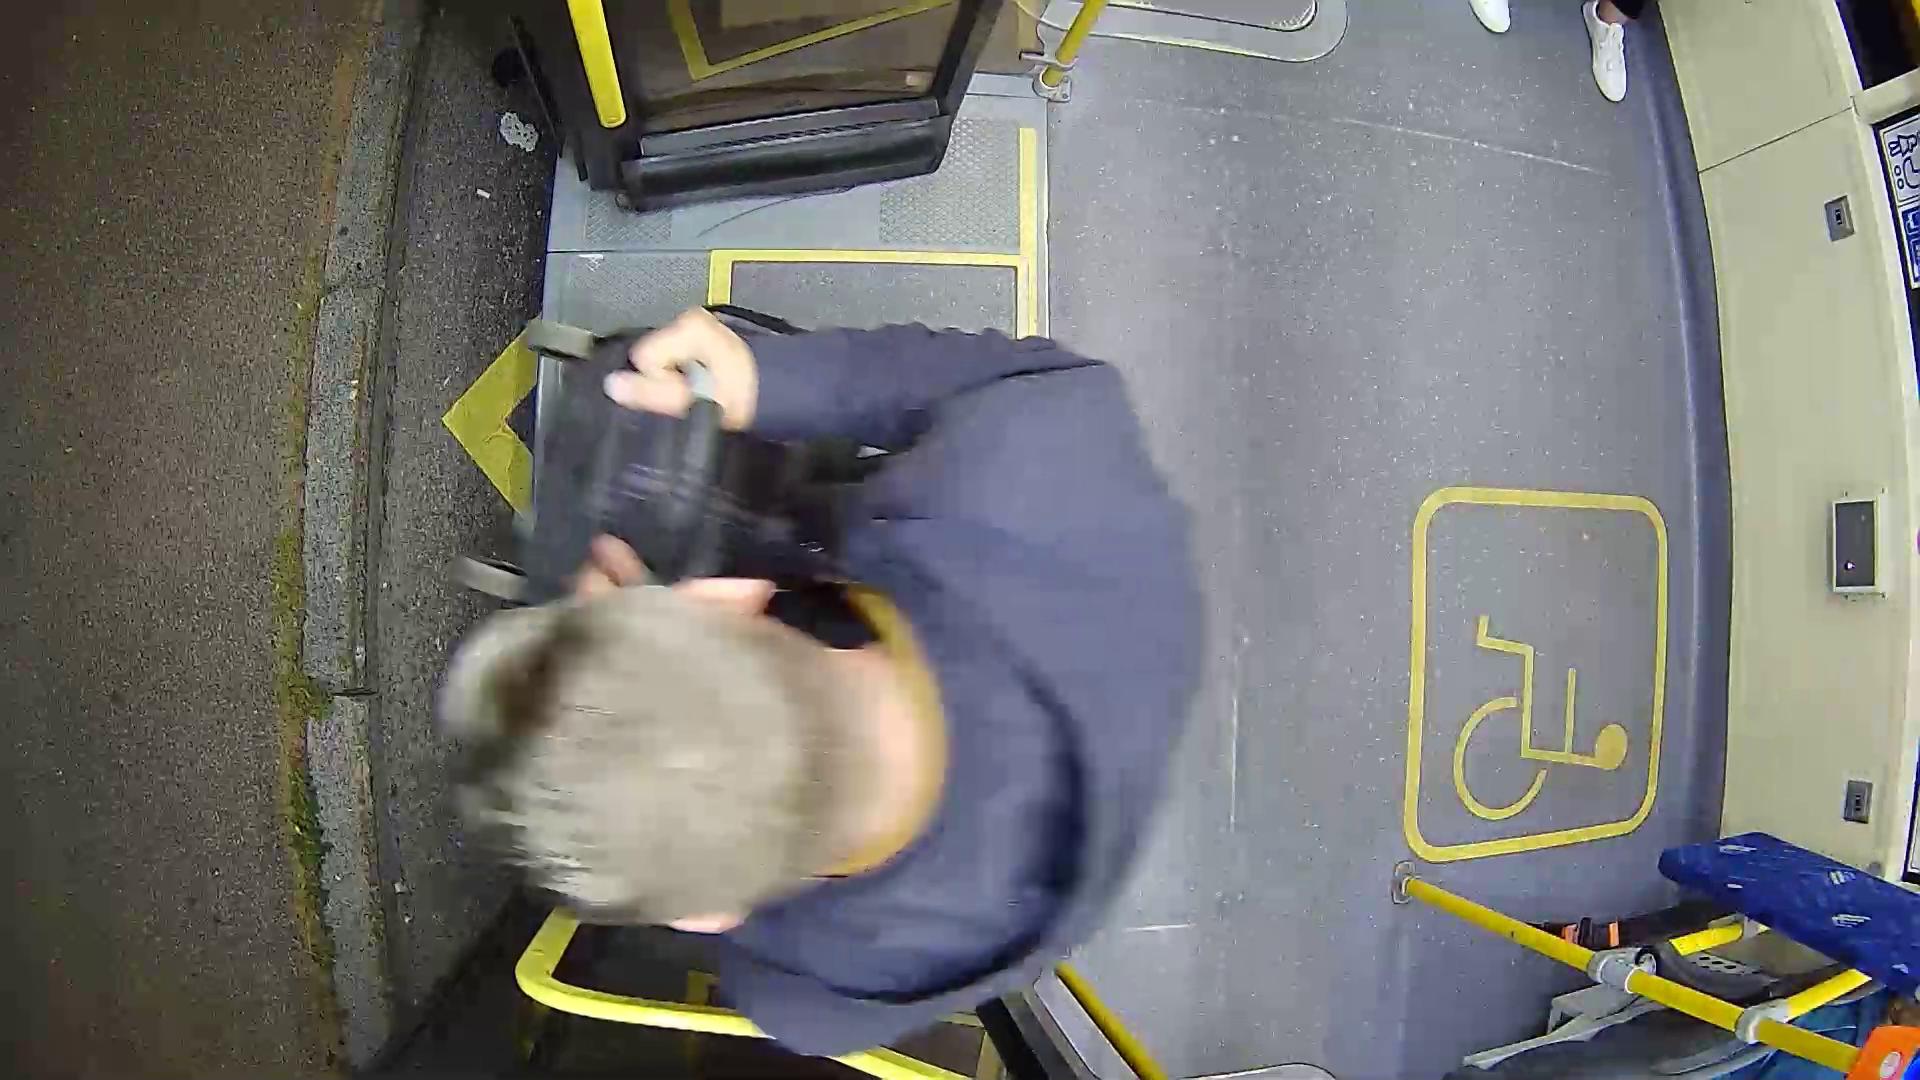person: (483, 256, 1257, 1060)
